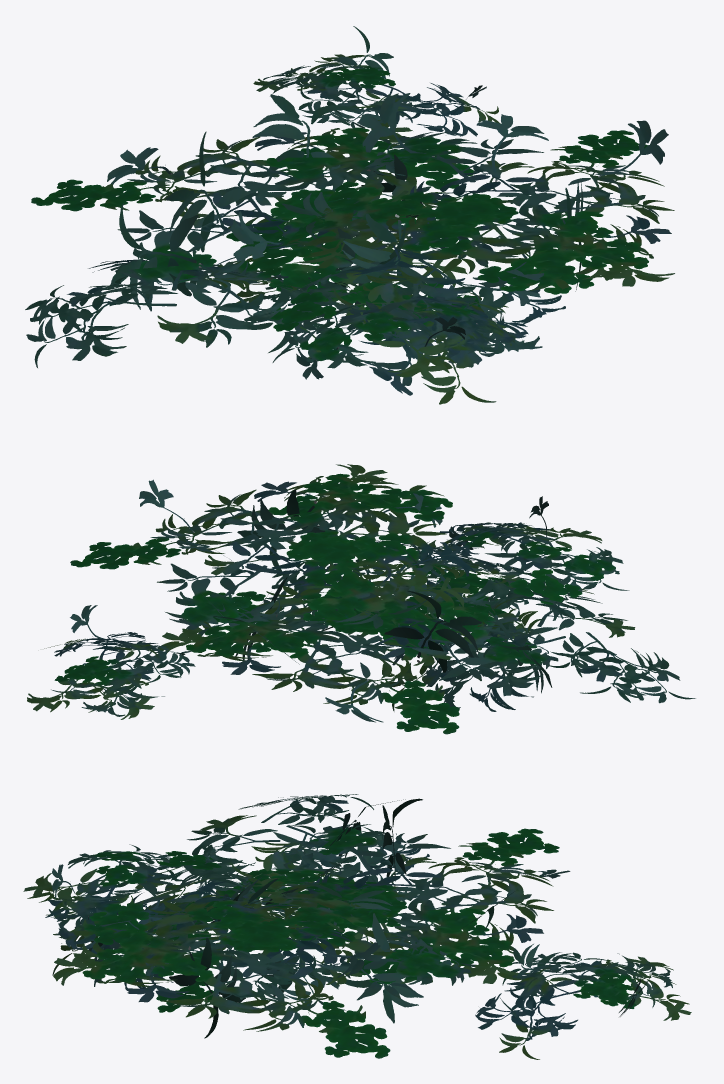
The picture shows the model from 3 angles, top to bottom: view 1: azimuth 30°, elevation 25°; view 2: azimuth 150°, elevation 25°; view 3: azimuth 270°, elevation 25°; orthographic projection. The views are drawn at different scales.
Parts seen in each view (by area): view 1: SM_BM_Leaf_Piles_04_LOD0; view 2: SM_BM_Leaf_Piles_04_LOD0; view 3: SM_BM_Leaf_Piles_04_LOD0.
Boxes of the visible parts, x1=… form: SM_BM_Leaf_Piles_04_LOD0: x1=25, y1=26, x2=674, y2=404; SM_BM_Leaf_Piles_04_LOD0: x1=27, y1=464, x2=695, y2=734; SM_BM_Leaf_Piles_04_LOD0: x1=23, y1=794, x2=691, y2=1059.
Size of the model in its own units: 1.15 by 0.2893 by 1.11.
Materials: 1 (1 with a texture image).
